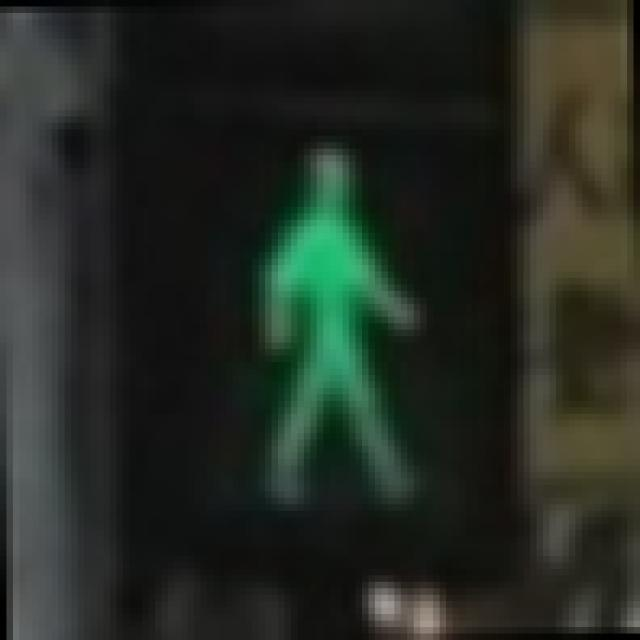geen-crossing: (110, 90, 511, 530)
